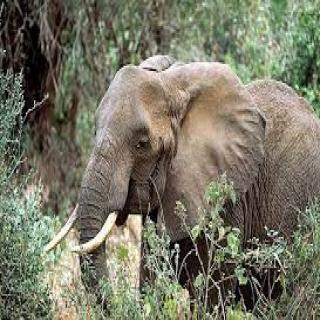Elephant: (38, 52, 316, 320)
